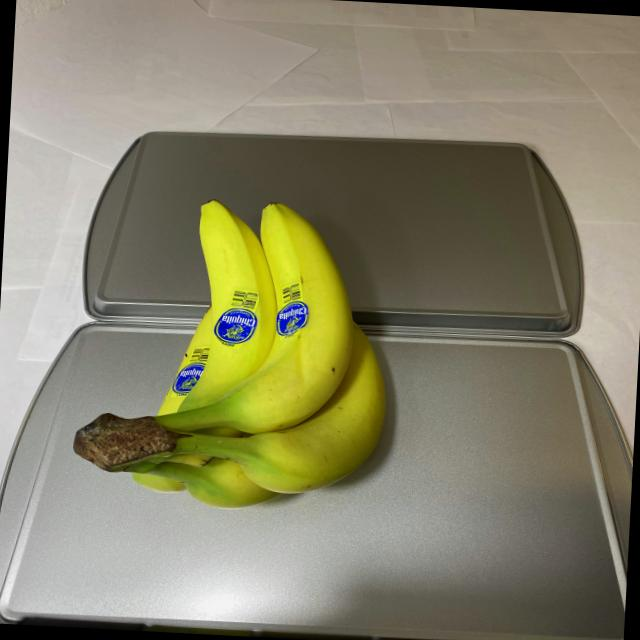banana: (59, 188, 412, 520)
